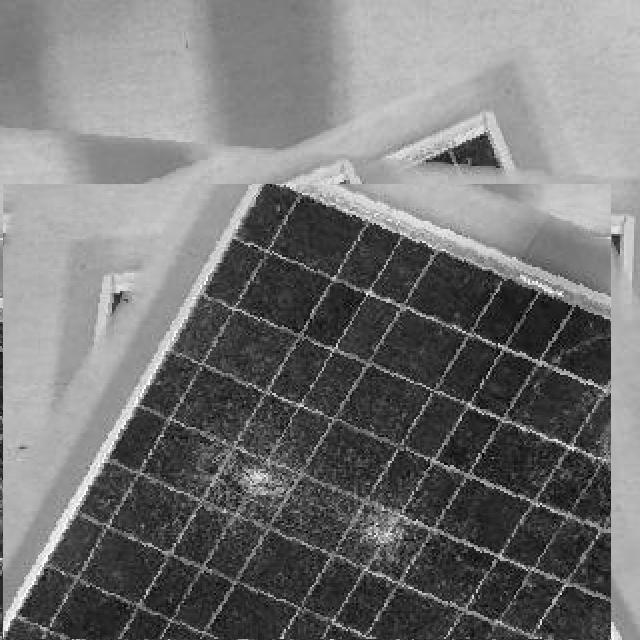Anomaly Solar Panel: (2, 178, 610, 637)
Structural Damage: (183, 435, 329, 530), (347, 494, 443, 562)
